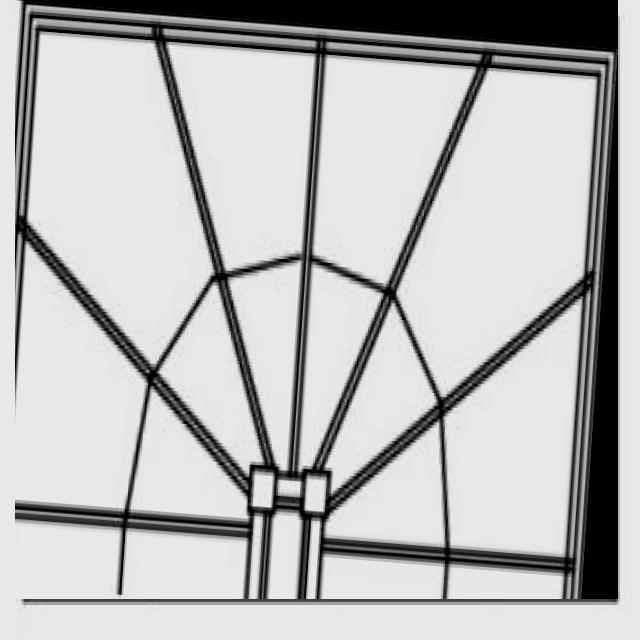stair: (15, 0, 618, 599)
